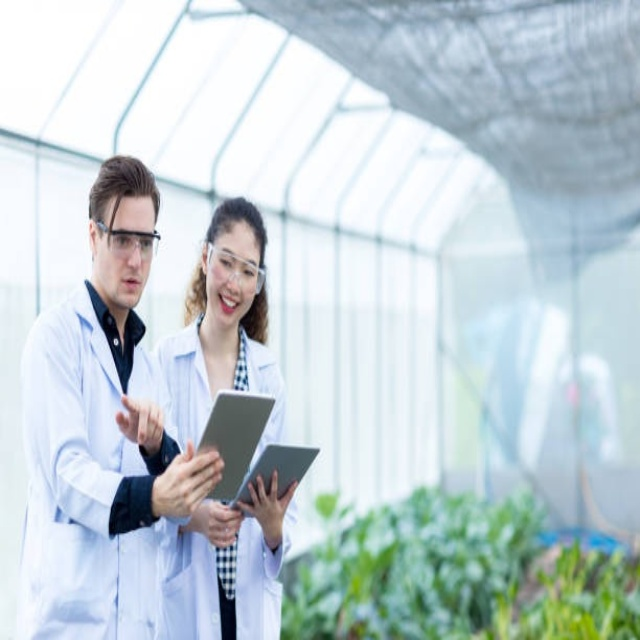Gafas: (206, 242, 264, 296), (96, 221, 161, 260)
Sin_guantes: (151, 435, 225, 522), (240, 467, 299, 542), (115, 391, 167, 450), (201, 496, 244, 546)
Sin_mascara: (213, 287, 242, 318), (116, 273, 146, 300)
